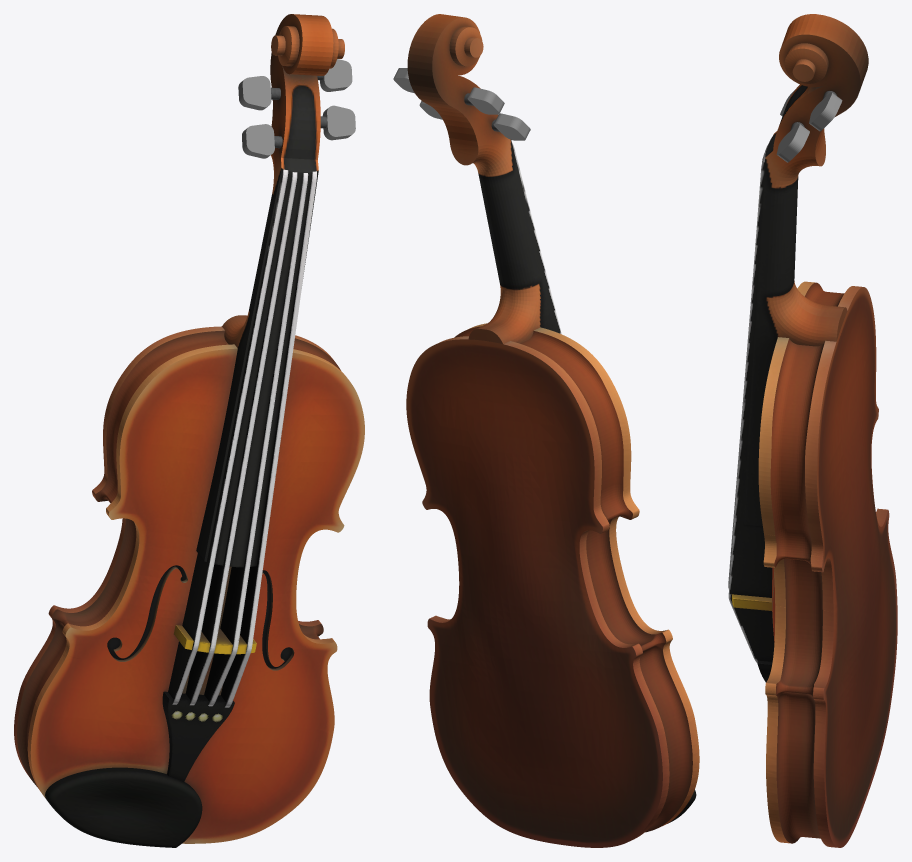
The model's file is violin.glb.
3 views of the same model, side by side, from view 1: azimuth 30°, elevation 25°; view 2: azimuth 150°, elevation 25°; view 3: azimuth 270°, elevation 25° (orthographic). The views are drawn at different scales.
Size of the model in its own units: 0.3378 by 0.8203 by 0.1462.
1 material, 1 textured.
